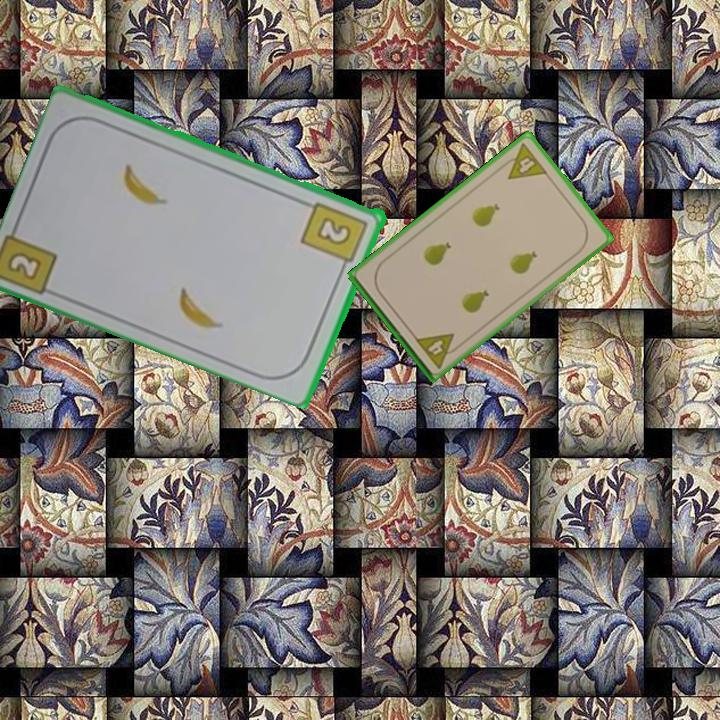2b: (298, 198, 372, 273), (4, 248, 46, 284)
4p: (411, 327, 464, 371), (496, 140, 550, 182)
